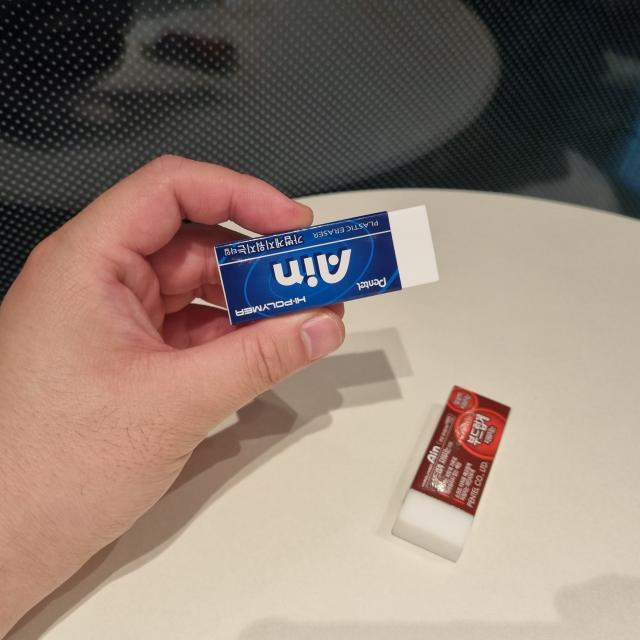blue: (210, 203, 444, 327)
red: (398, 379, 514, 566)
